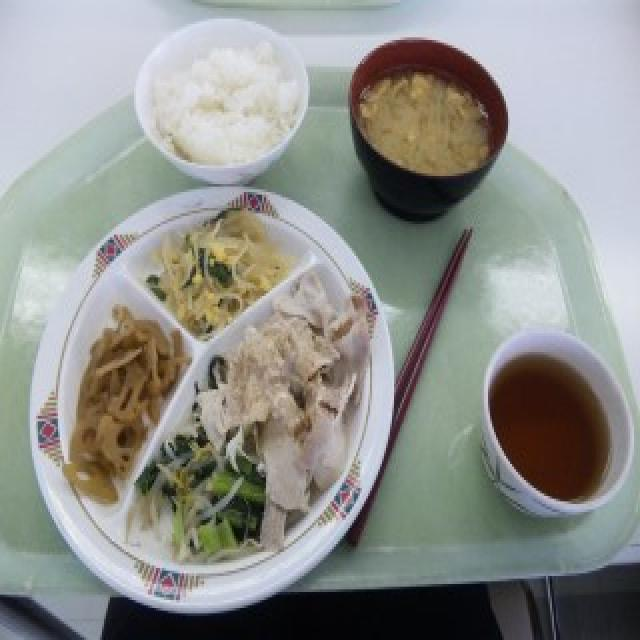Rice: (160, 38, 296, 156)
